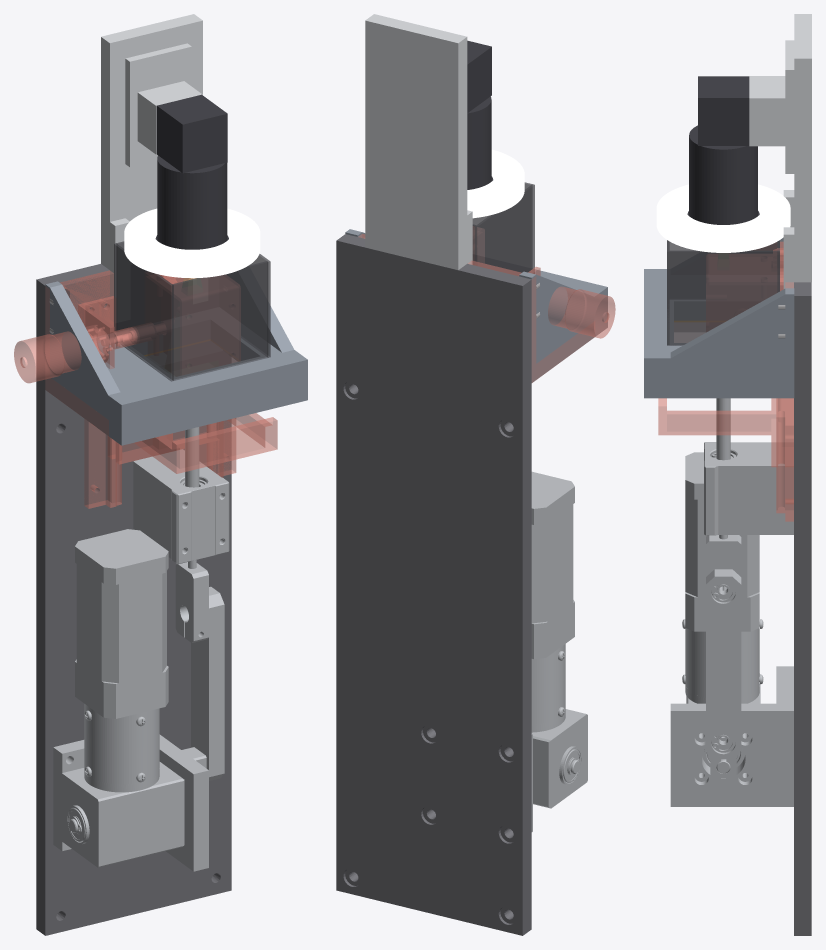
The model's file is glass_wall.glb.
The picture shows the model from 3 angles, left to right: view 1: azimuth 30°, elevation 25°; view 2: azimuth 150°, elevation 25°; view 3: azimuth 270°, elevation 25°; orthographic projection.
Parts seen in each view (by area): view 1: keep_base_link, new_frame_SUS304, new_shroud_black, keep_L7_Motor1_Body_1, new_base_extension_AL6061, keep_L3_Bevel_GearBox_1, new_lens_35mm_Cmount, new_ringlight_polarized, removed_L2_Left_Wall1_1, keep_L2_Linear_bush_1, keep_L6_Link2_1, keep_L5_Reducer2_1 (+20 smaller); view 2: keep_base_link, new_base_extension_AL6061, keep_L7_Motor1_Body_1, new_shroud_black, keep_L3_Bevel_GearBox_1, new_frame_SUS304, removed_L3_Motor2_1, new_ringlight_polarized, new_gusset_SUS304, keep_L5_Reducer2_1, new_lens_35mm_Cmount, new_camera_20MP_1in (+3 smaller); view 3: keep_base_link, new_frame_SUS304, keep_L2_Braket2_1, new_shroud_black, keep_L6_Link2_1, new_base_extension_AL6061, new_lens_35mm_Cmount, new_gusset_SUS304, new_ringlight_polarized, keep_L1_Slider_jig_1, keep_L7_Motor1_Body_1, removed_L2_Left_Wall1_1 (+13 smaller).
Boxes of the visible parts, x1=… form: keep_base_link: x1=36, y1=264, x2=231, y2=935; new_frame_SUS304: x1=45, y1=315, x2=307, y2=445; new_shroud_black: x1=114, y1=241, x2=270, y2=381; keep_L7_Motor1_Body_1: x1=75, y1=529, x2=168, y2=700; new_base_extension_AL6061: x1=101, y1=14, x2=202, y2=321; keep_L3_Bevel_GearBox_1: x1=61, y1=762, x2=184, y2=867; new_lens_35mm_Cmount: x1=157, y1=155, x2=227, y2=249; new_ringlight_polarized: x1=124, y1=208, x2=260, y2=278; removed_L2_Left_Wall1_1: x1=108, y1=413, x2=277, y2=473; keep_L2_Linear_bush_1: x1=162, y1=471, x2=229, y2=564; keep_L6_Link2_1: x1=191, y1=586, x2=224, y2=780; keep_L5_Reducer2_1: x1=84, y1=704, x2=159, y2=784; keep_base_link: x1=336, y1=234, x2=531, y2=935; new_base_extension_AL6061: x1=365, y1=14, x2=472, y2=270; keep_L7_Motor1_Body_1: x1=531, y1=471, x2=574, y2=640; new_shroud_black: x1=472, y1=182, x2=534, y2=275; keep_L3_Bevel_GearBox_1: x1=531, y1=709, x2=587, y2=808; new_frame_SUS304: x1=473, y1=260, x2=607, y2=382; removed_L3_Motor2_1: x1=548, y1=286, x2=615, y2=338; new_ringlight_polarized: x1=467, y1=149, x2=524, y2=218; new_gusset_SUS304: x1=345, y1=229, x2=593, y2=342; keep_L5_Reducer2_1: x1=531, y1=644, x2=565, y2=724; new_lens_35mm_Cmount: x1=467, y1=96, x2=491, y2=189; new_camera_20MP_1in: x1=467, y1=40, x2=491, y2=112; keep_base_link: x1=794, y1=282, x2=811, y2=935; new_frame_SUS304: x1=644, y1=269, x2=794, y2=398; keep_L2_Braket2_1: x1=670, y1=703, x2=776, y2=806; new_shroud_black: x1=667, y1=240, x2=779, y2=345; keep_L6_Link2_1: x1=706, y1=569, x2=741, y2=758; new_base_extension_AL6061: x1=783, y1=14, x2=811, y2=288; new_lens_35mm_Cmount: x1=689, y1=125, x2=757, y2=224; new_gusset_SUS304: x1=670, y1=237, x2=794, y2=358; new_ringlight_polarized: x1=656, y1=184, x2=790, y2=252; keep_L1_Slider_jig_1: x1=736, y1=442, x2=793, y2=534; keep_L7_Motor1_Body_1: x1=685, y1=452, x2=759, y2=613; removed_L2_Left_Wall1_1: x1=658, y1=398, x2=793, y2=467.
Size of the model in its own units: 152 by 540 by 95.
